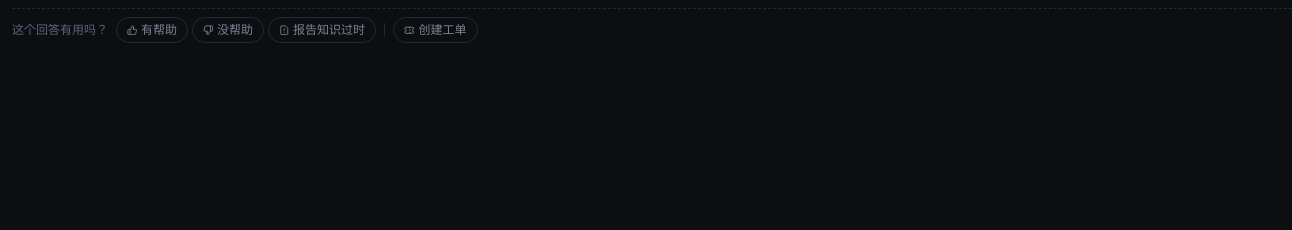
Test: FeedbackRow › 创建工单 expands the inline form with label, prefill, and the mono reference strip
Click the button with test id "feedback-ticket": x=435, y=30 left=393, top=17, right=478, bottom=43
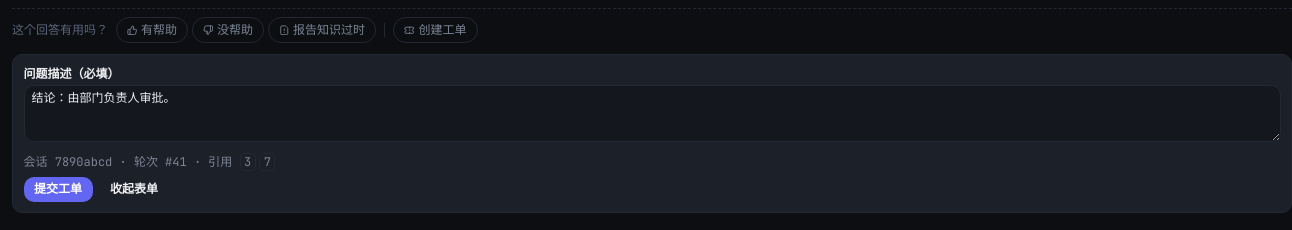
Expected: the element with test id "feedback-ticket-form" is shown
Expected: the text box with test id "feedback-ticket-description" holds "结论：由部门负责人审批。", left=24, top=85, right=1280, bottom=142
Expected: the element with test id "feedback-ticket-refs" shows "会话 7890abcd", left=24, top=153, right=276, bottom=171
